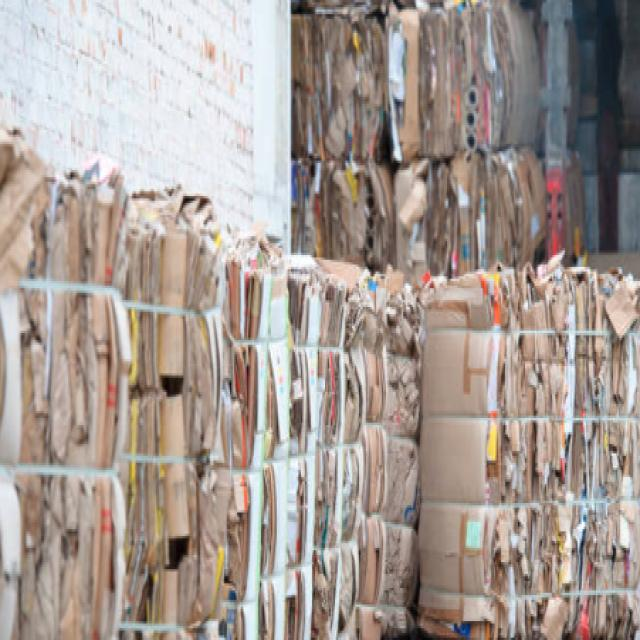KertasBekas: (0, 120, 639, 638)
